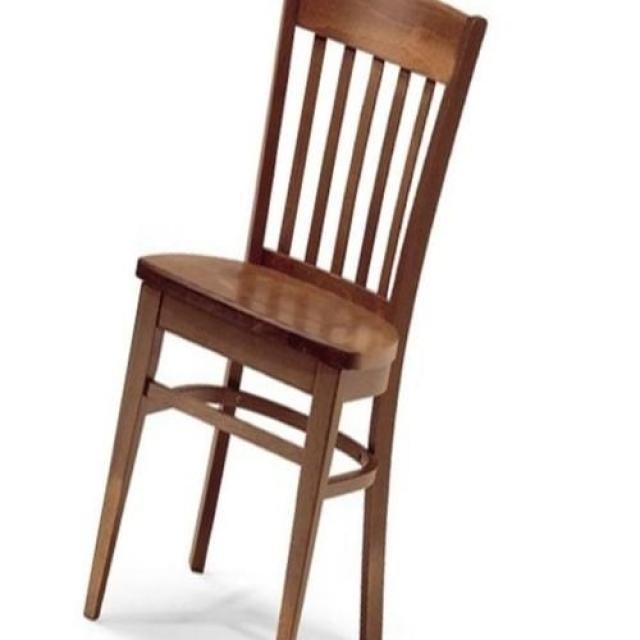chair: (82, 1, 488, 640)
